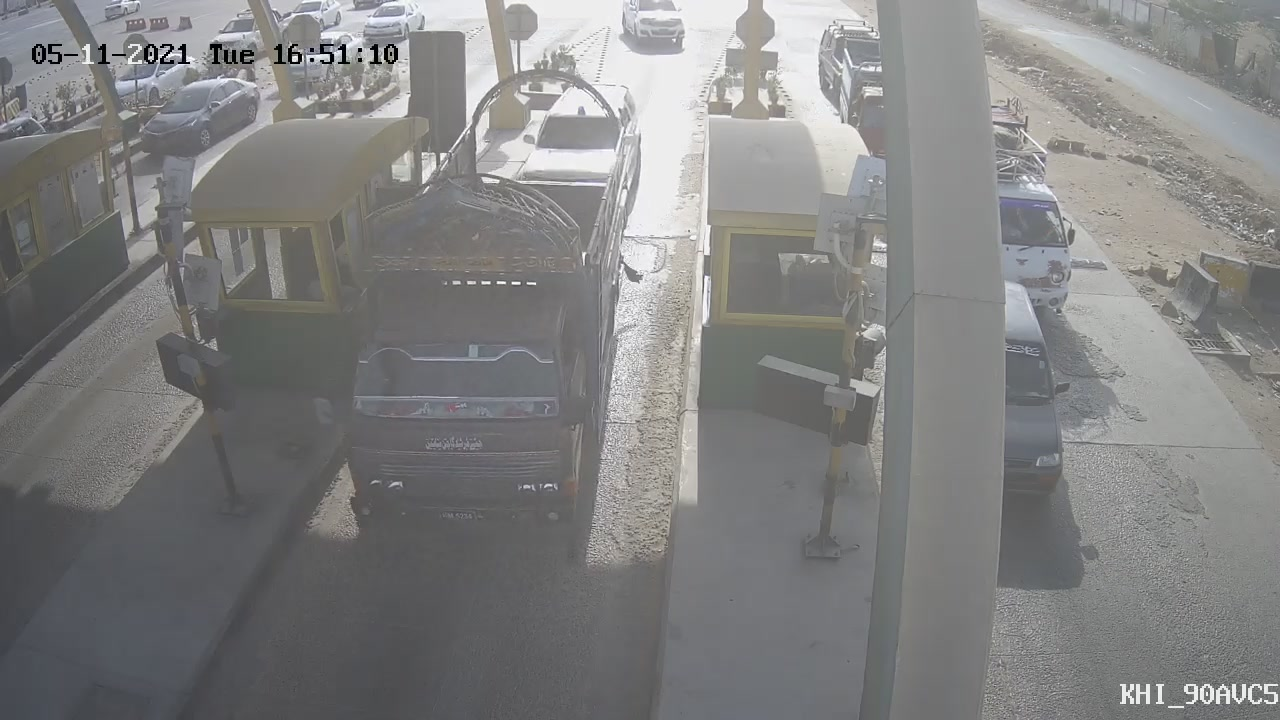F5: (298, 49, 661, 585)
